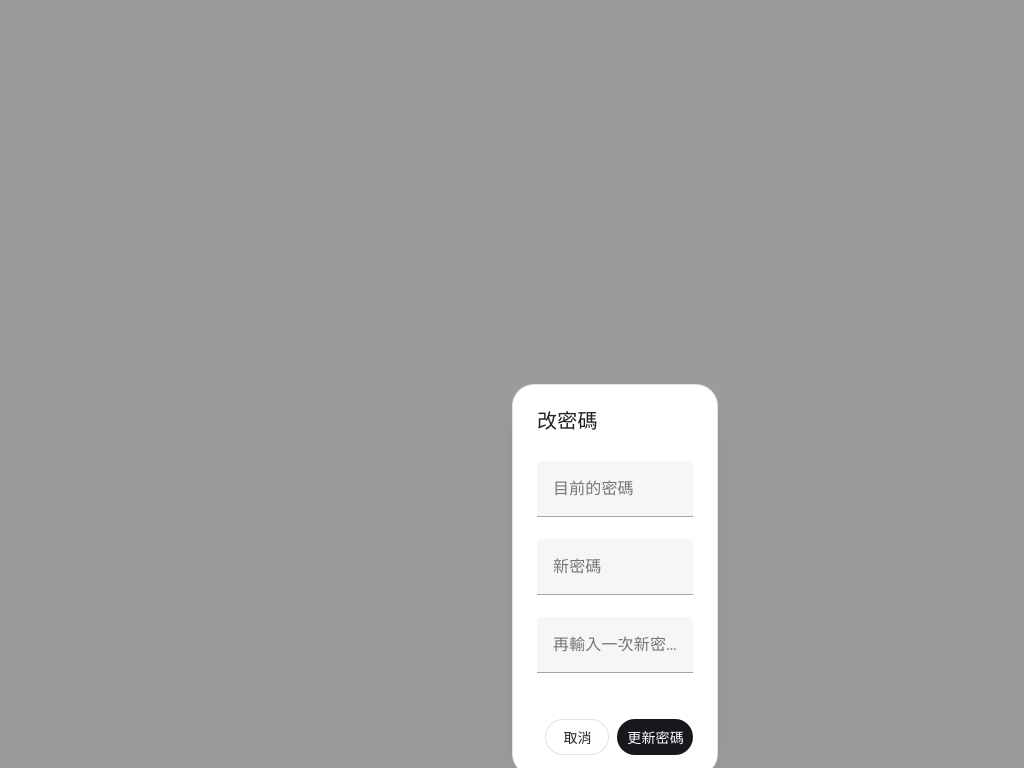
Test: PasswordDialog › 兩次新密碼不一樣時不送出，顯示「兩次輸入的新密碼不一樣」
Step 1. Type "old-password-1" into the password field labelled "目前的密碼" → [615, 489], box [537, 461, 693, 517]
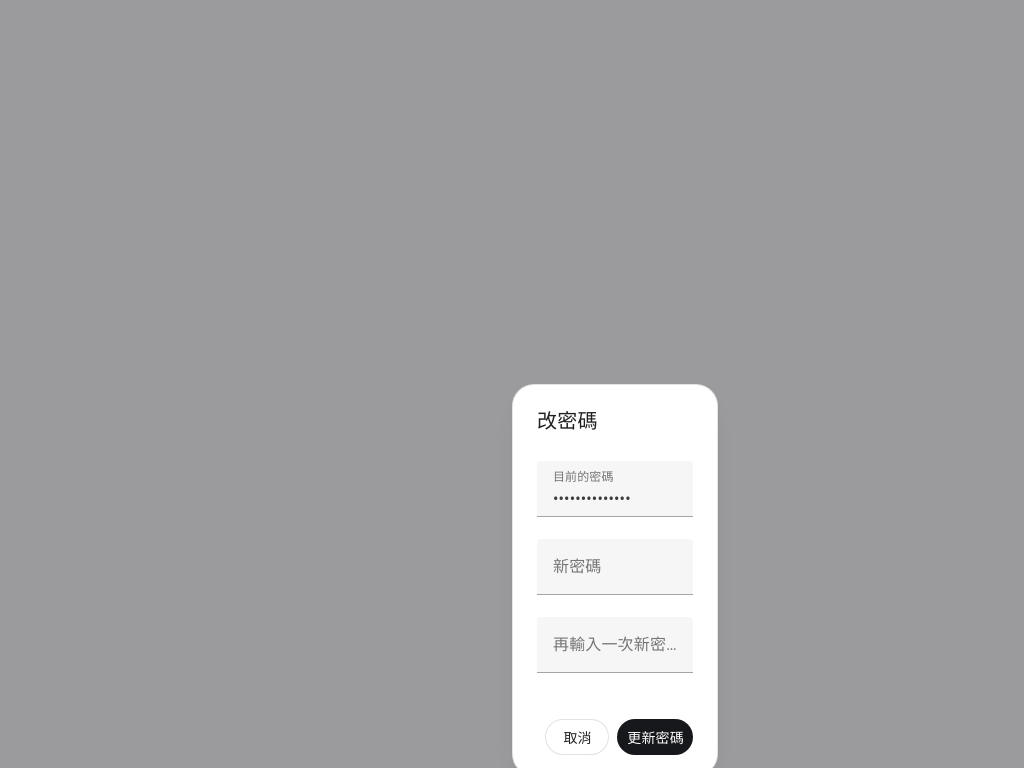
Step 2. Type "new-password-1" into the password field labelled "新密碼" → [615, 567], box [537, 539, 693, 595]
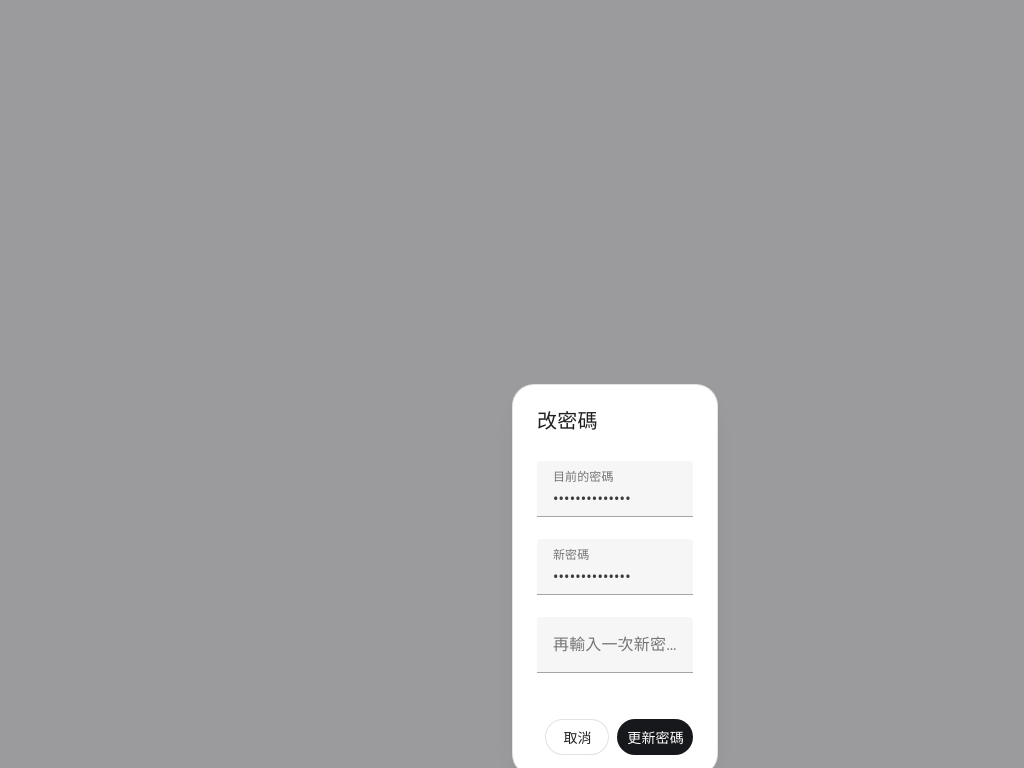
Step 3. Type "new-password-2" into the password field labelled "再輸入一次新密碼" → [615, 645], box [537, 617, 693, 673]
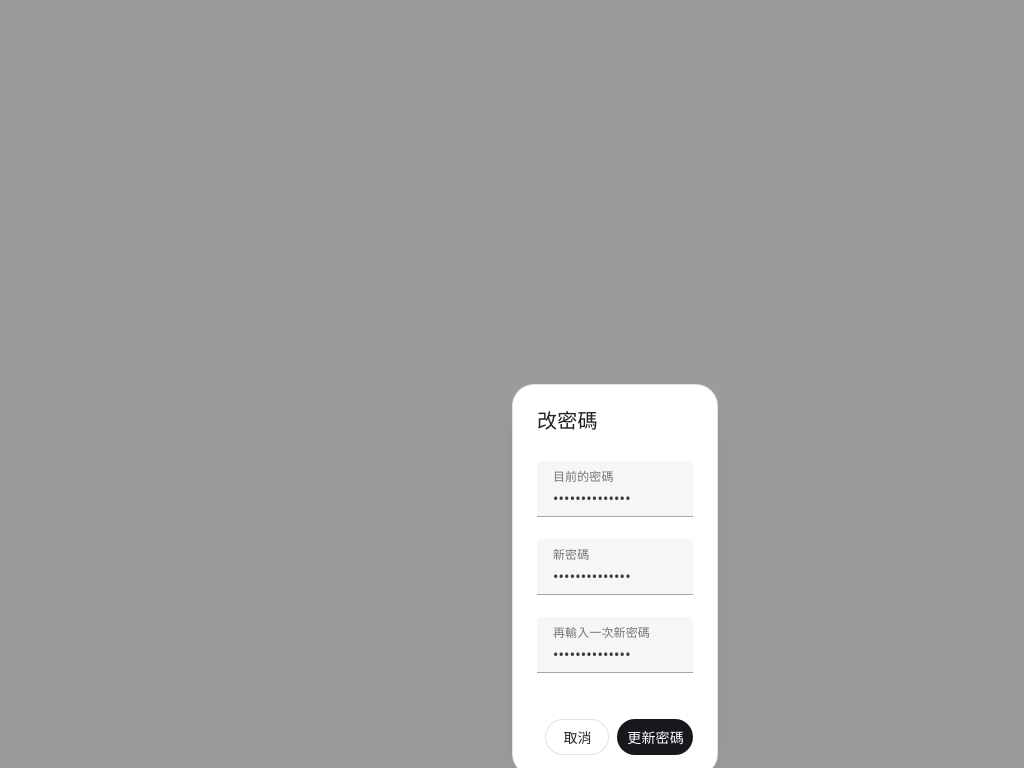
Step 4. Submit the form, box [537, 461, 693, 755]
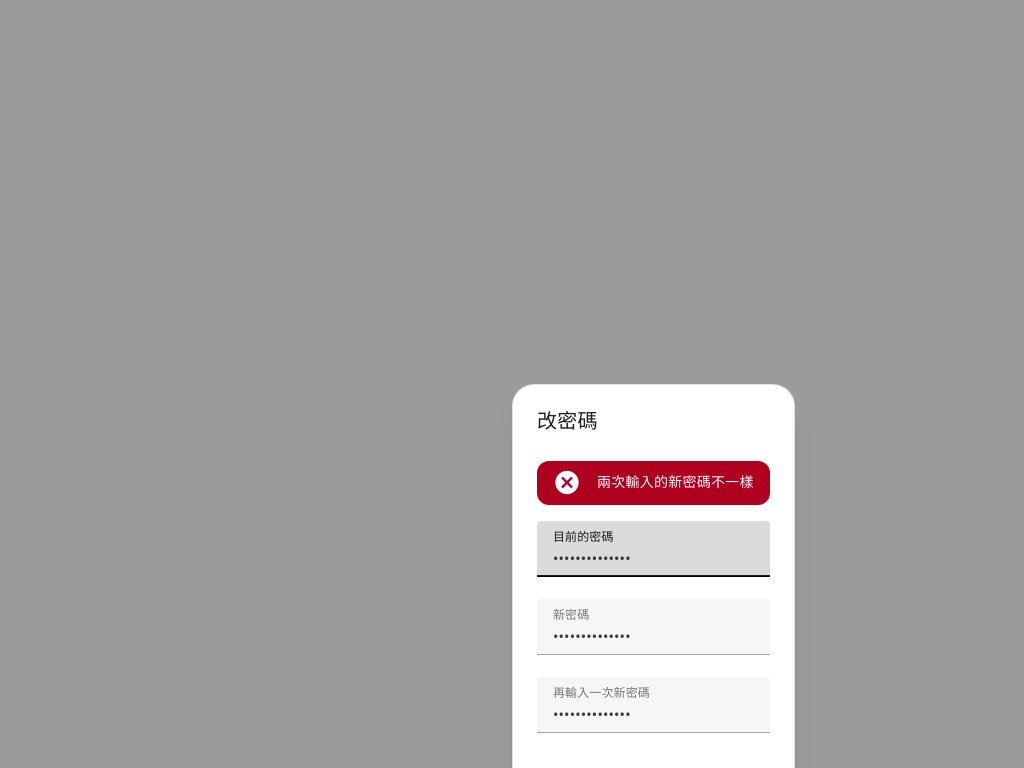
expect the message "兩次輸入的新密碼不一樣" is shown: met, box [537, 461, 770, 505]
